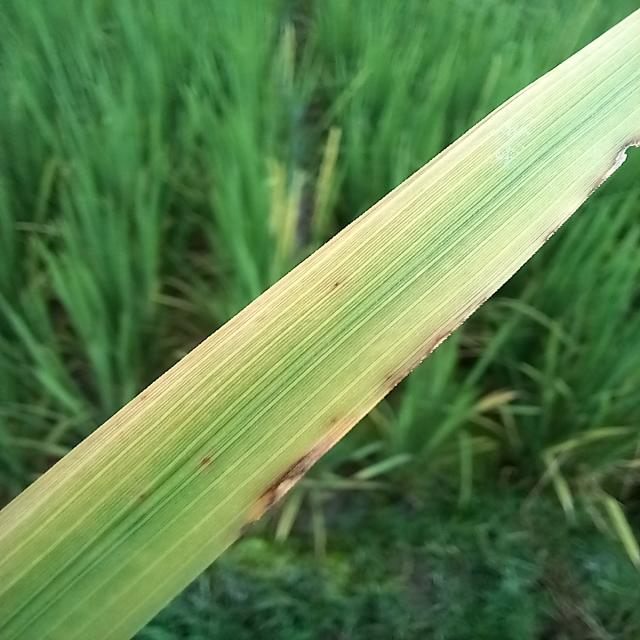Leaf_Blast: (240, 435, 337, 520), (379, 317, 461, 394)
